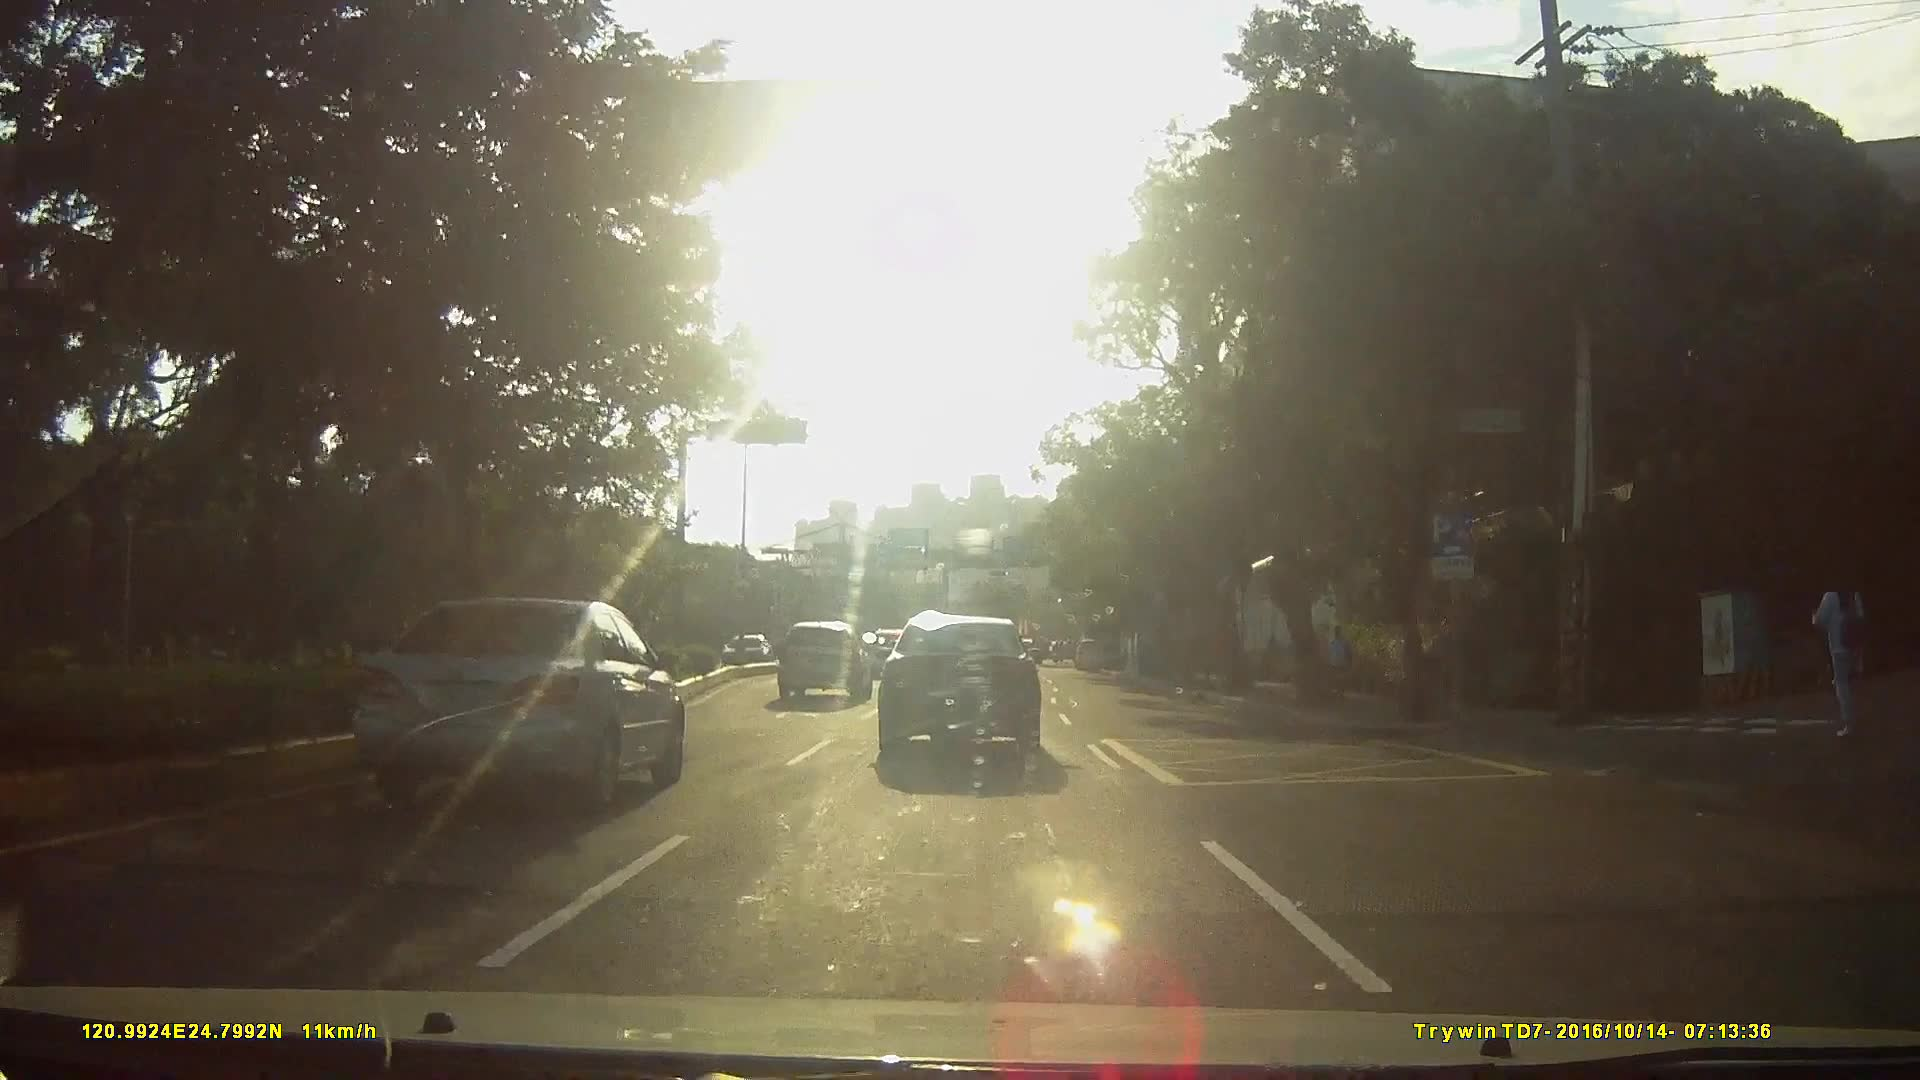pedestrian: (1812, 565, 1876, 742)
vehicle: (351, 594, 684, 808), (869, 619, 1056, 774), (772, 618, 871, 702), (708, 631, 758, 668), (1069, 637, 1105, 672)
